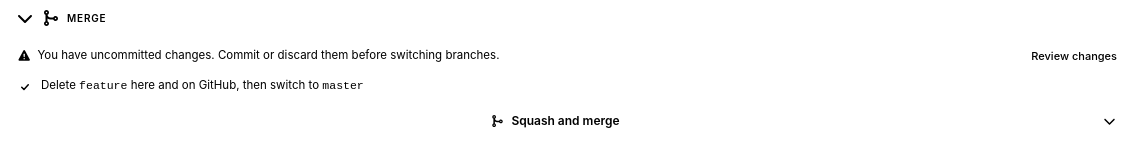
Test: MergeCard › blocks the cleanup on uncommitted changes, but not a plain merge
Check: the button "Squash and merge" is disabled, box [17, 105, 1093, 137]
Check: the text "uncommitted changes" is shown, box [37, 48, 500, 62]
Click the checkbox named "Delete feature here and on GitHub". click: (25, 87)
box: [17, 79, 33, 95]
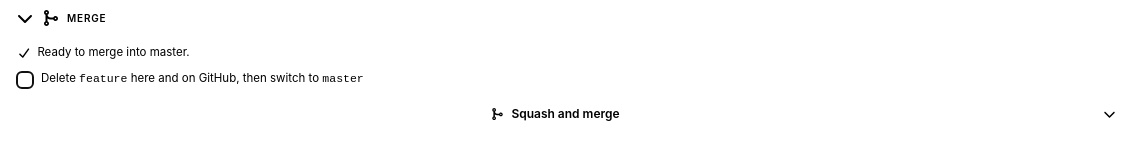
Check: the button "Squash and merge" is enabled, box [17, 98, 1093, 130]
